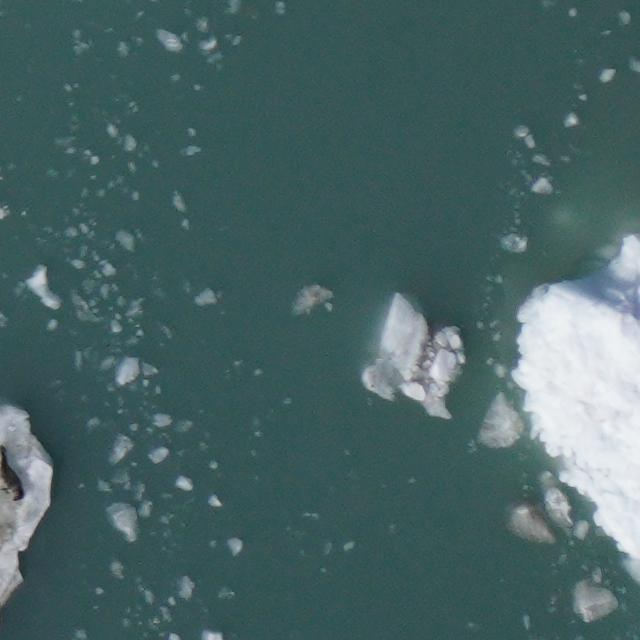seal: (0, 441, 30, 506)
